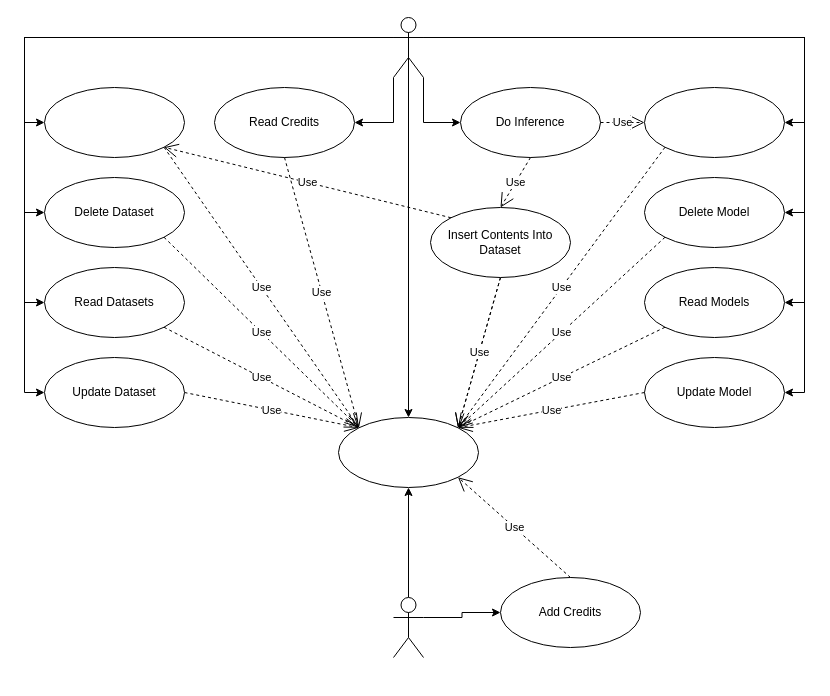
This 830x696 diagram has some shape labels left out. The box of each missing label's shape, as (x1, y1, x2, y2) in pixels:
Admin: (392, 596, 424, 658)
Create Dataset: (44, 86, 184, 158)
Create Model: (644, 86, 784, 158)
login: (338, 416, 478, 488)
User: (392, 16, 424, 78)
